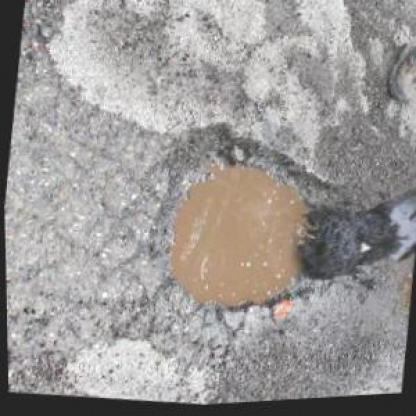pothole: (128, 111, 361, 337)
